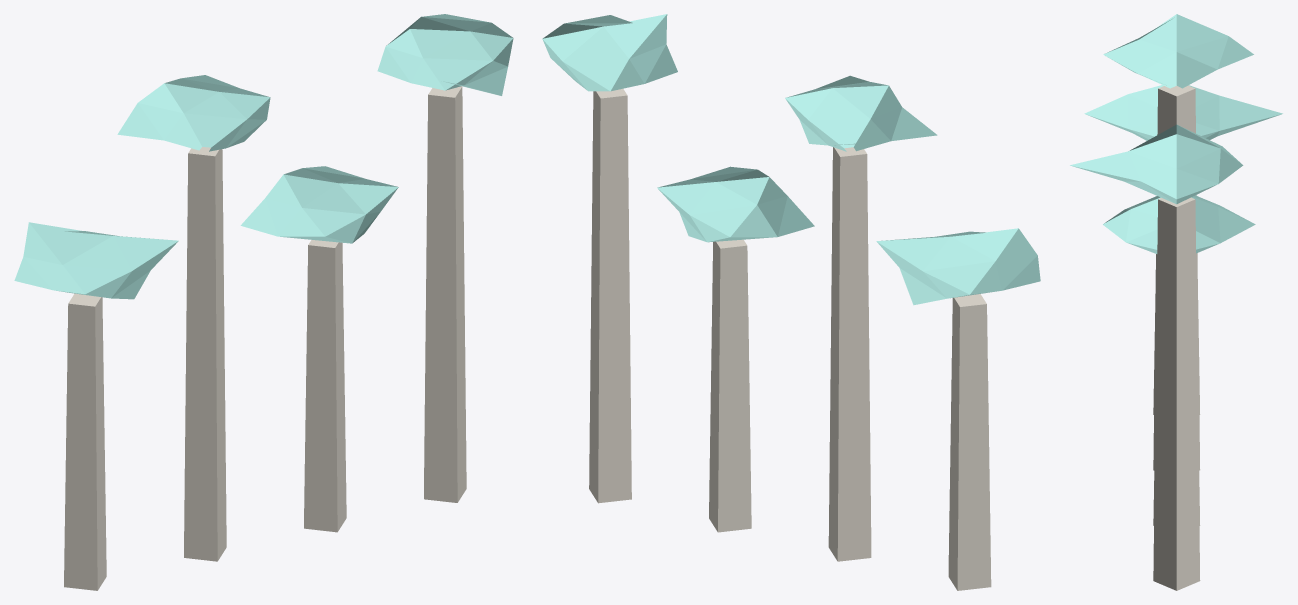
The model's file is glowcap_v38.glb.
3 renders of one model, left to right at view 1: azimuth 30°, elevation 25°; view 2: azimuth 150°, elevation 25°; view 3: azimuth 270°, elevation 25°, orthographic. The views are drawn at different scales.
Visible parts, largest first — view 1: lod0; view 2: lod0; view 3: lod0.
Boxes of the visible parts, x1,y1,x2,y2 form: lod0: (14, 14, 513, 590); lod0: (542, 14, 1040, 590); lod0: (1070, 14, 1282, 590).
Size of what is drawn, in the model's own units: 0.5825 by 0.5354 by 0.2289.
